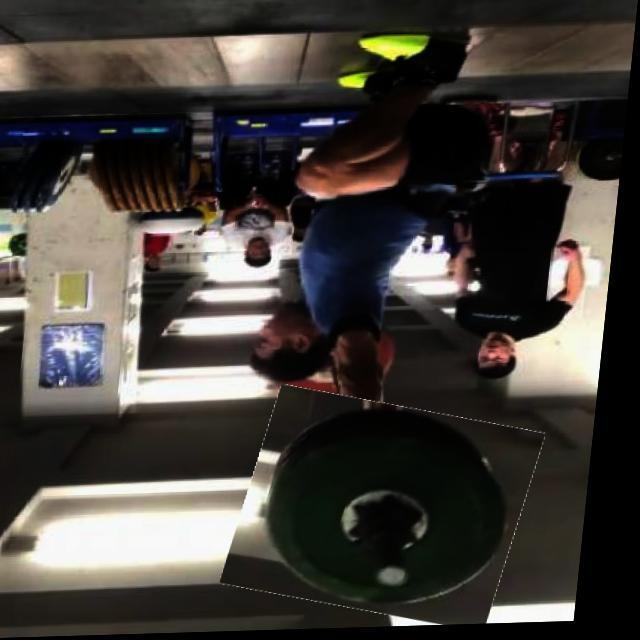barbell: (239, 394, 550, 630)
